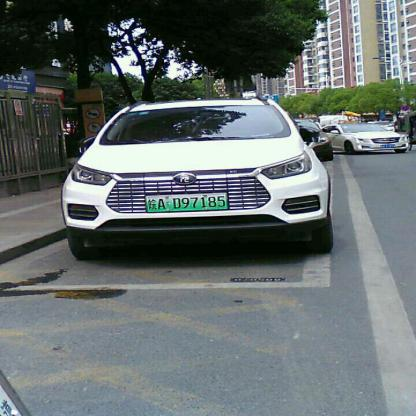lp: (146, 192, 228, 213)
